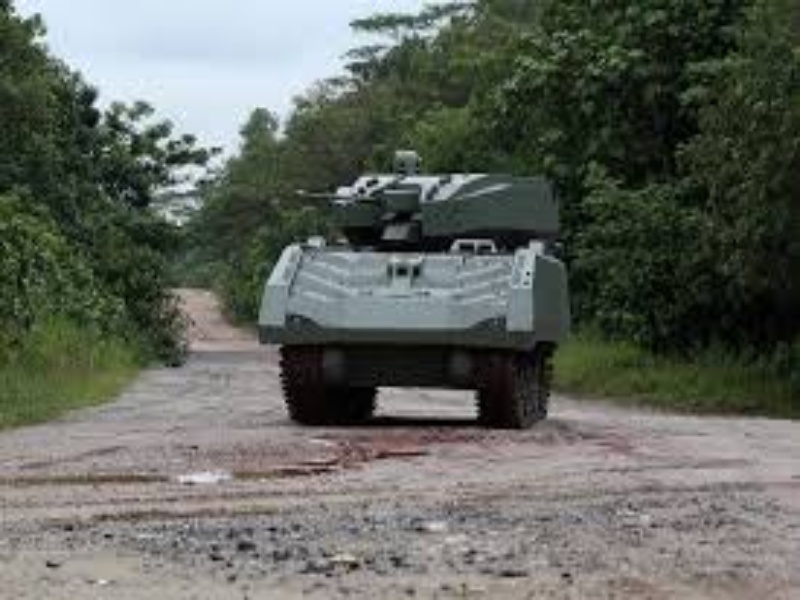tank: (256, 150, 571, 432)
